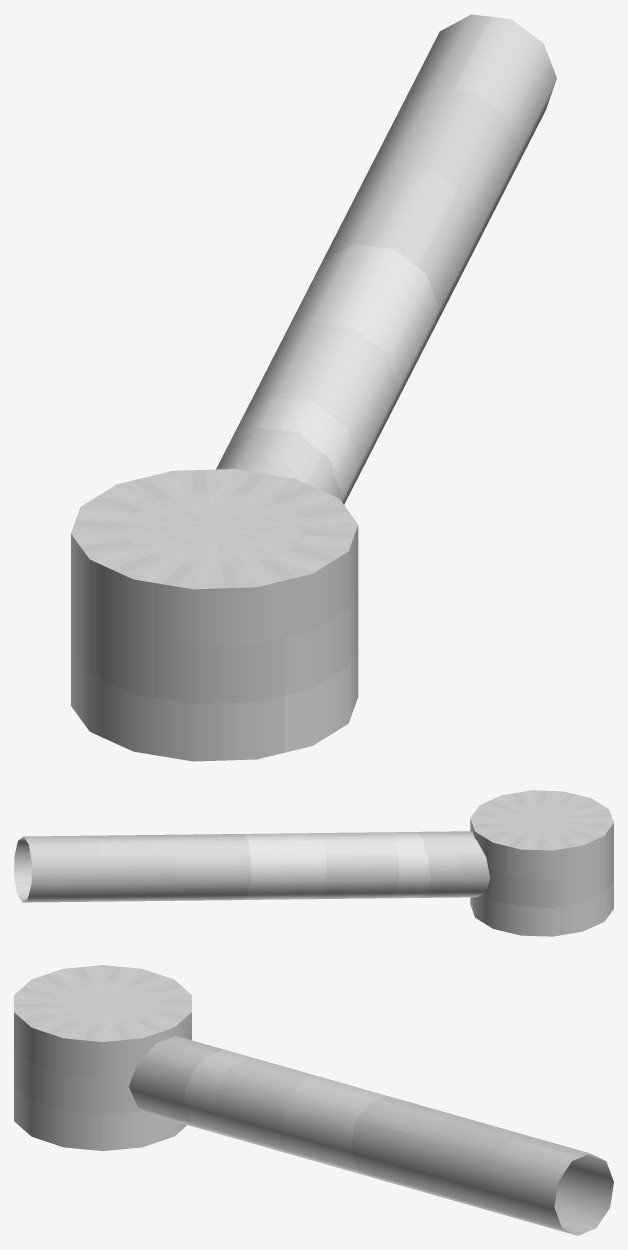
The model's file is trusssignalarm_diagonal8_c1_thin.obj.
3 renders of one model, top to bottom at view 1: azimuth 30°, elevation 25°; view 2: azimuth 150°, elevation 25°; view 3: azimuth 270°, elevation 25°, orthographic. The views are drawn at different scales.
Parts seen in each view (by area): view 1: trusssignalarm_diagonal8_c1_thin; view 2: trusssignalarm_diagonal8_c1_thin; view 3: trusssignalarm_diagonal8_c1_thin.
Part boxes in pixels (bbox=[...]): trusssignalarm_diagonal8_c1_thin: bbox=[71, 14, 556, 761]; trusssignalarm_diagonal8_c1_thin: bbox=[14, 790, 613, 936]; trusssignalarm_diagonal8_c1_thin: bbox=[14, 965, 613, 1235].
Size of the model in its own units: 1.88 by 0.5413 by 1.87.
